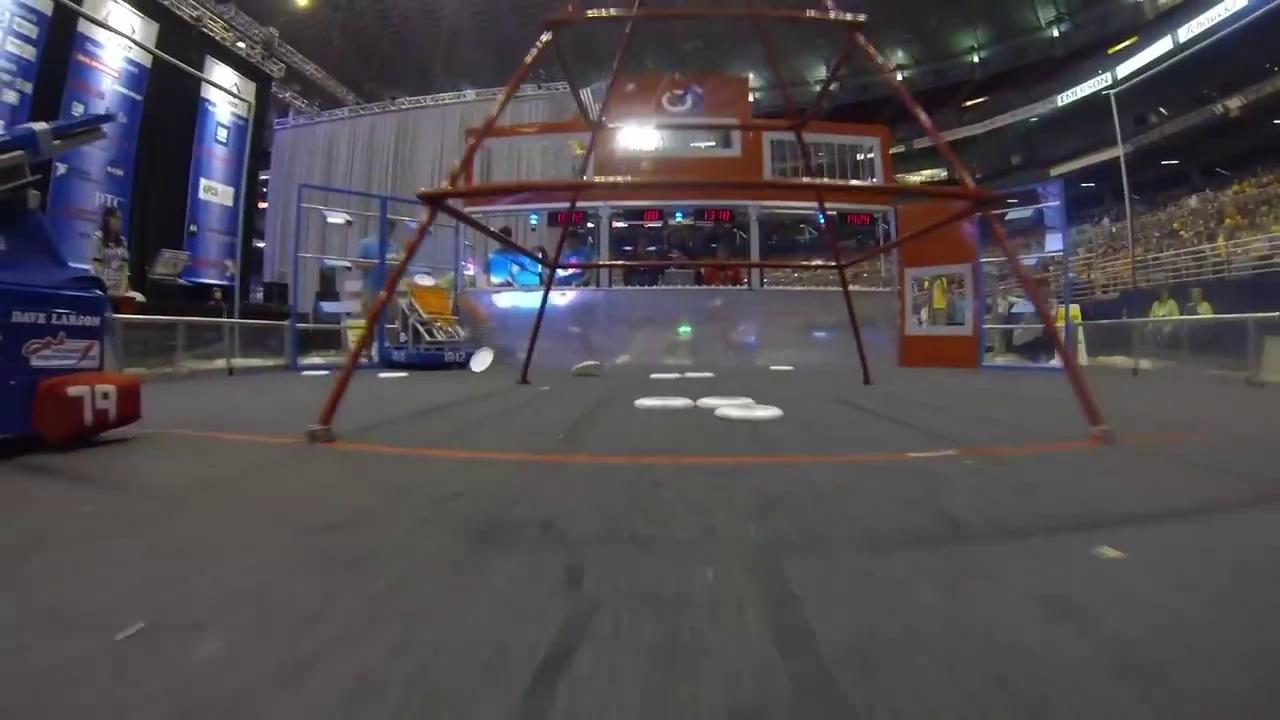robot: (0, 99, 153, 460), (383, 280, 478, 370)
